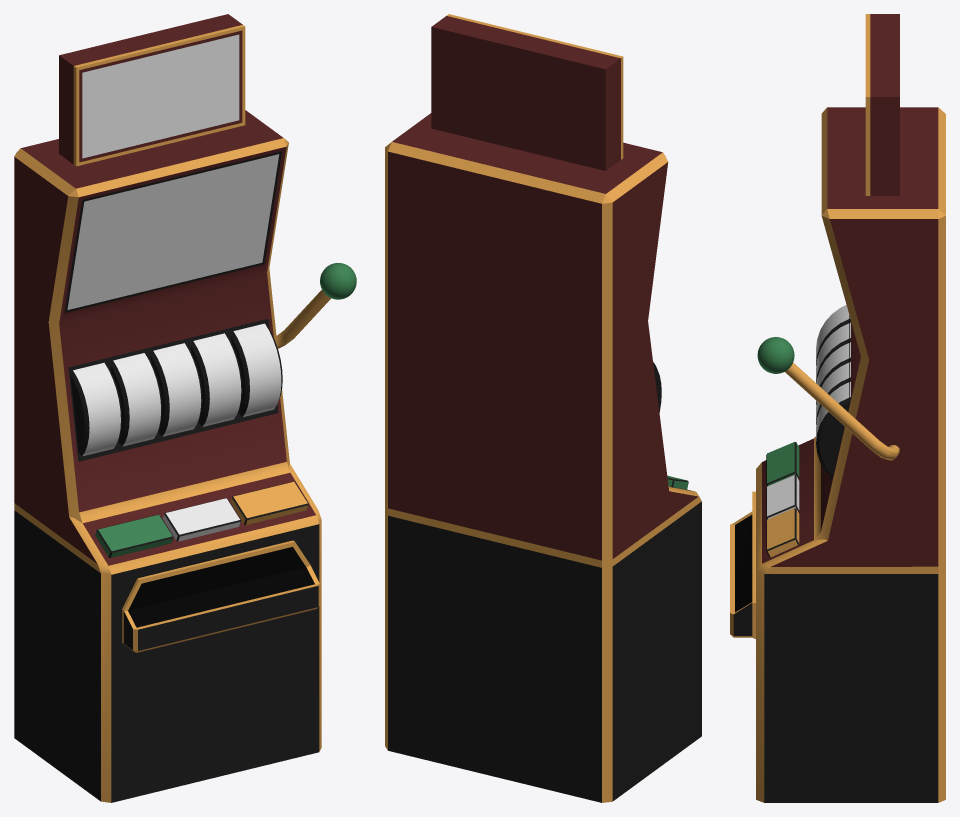
File: slotmachine.fbx
3 renders of one model, left to right at view 1: azimuth 30°, elevation 25°; view 2: azimuth 150°, elevation 25°; view 3: azimuth 270°, elevation 25°, orthographic. The views are drawn at different scales.
Visible parts, largest first — view 1: slotmachine; view 2: slotmachine; view 3: slotmachine.
Part boxes in pixels (x1,y1,x2,y2): slotmachine: (14,14,356,802); slotmachine: (385,14,701,802); slotmachine: (730,14,945,802).
Bounding box in the file's own units: 85.92 × 219 × 61.67.
